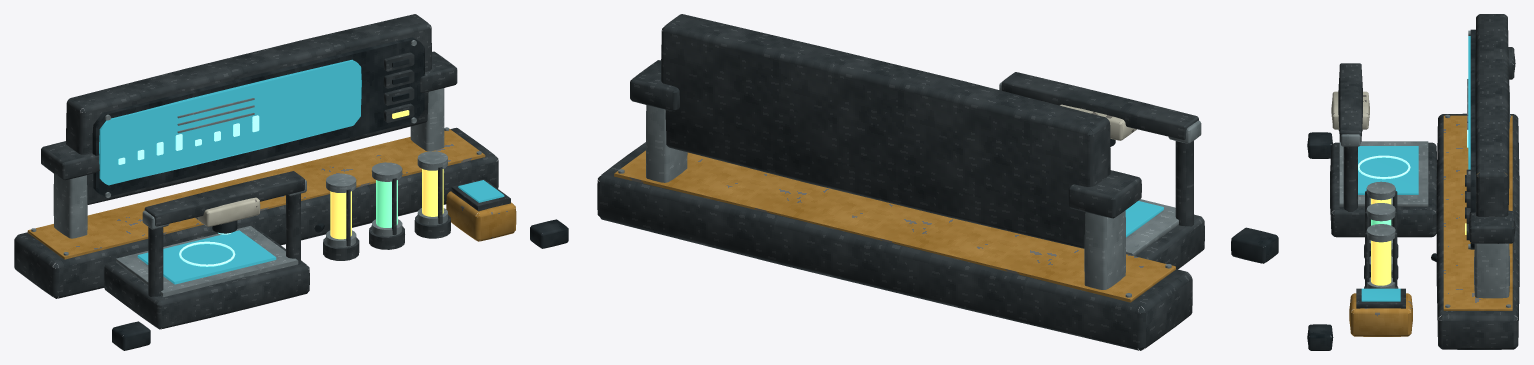
The model's file is research_tabletop_module_refined.glb.
3 renders of one model, left to right at view 1: azimuth 30°, elevation 25°; view 2: azimuth 150°, elevation 25°; view 3: azimuth 270°, elevation 25°, orthographic. The views are drawn at different scales.
Visible parts, largest first — view 1: research_tabletop_module; view 2: research_tabletop_module; view 3: research_tabletop_module.
Part boxes in pixels (left/top/right/bottom): research_tabletop_module: left=14, top=14, right=568, bottom=350; research_tabletop_module: left=597, top=14, right=1278, bottom=350; research_tabletop_module: left=1307, top=14, right=1519, bottom=350.
Bounding box in the file's own units: 1.76 × 0.631 × 0.7669.
Materials: 9 (5 with a texture image).
